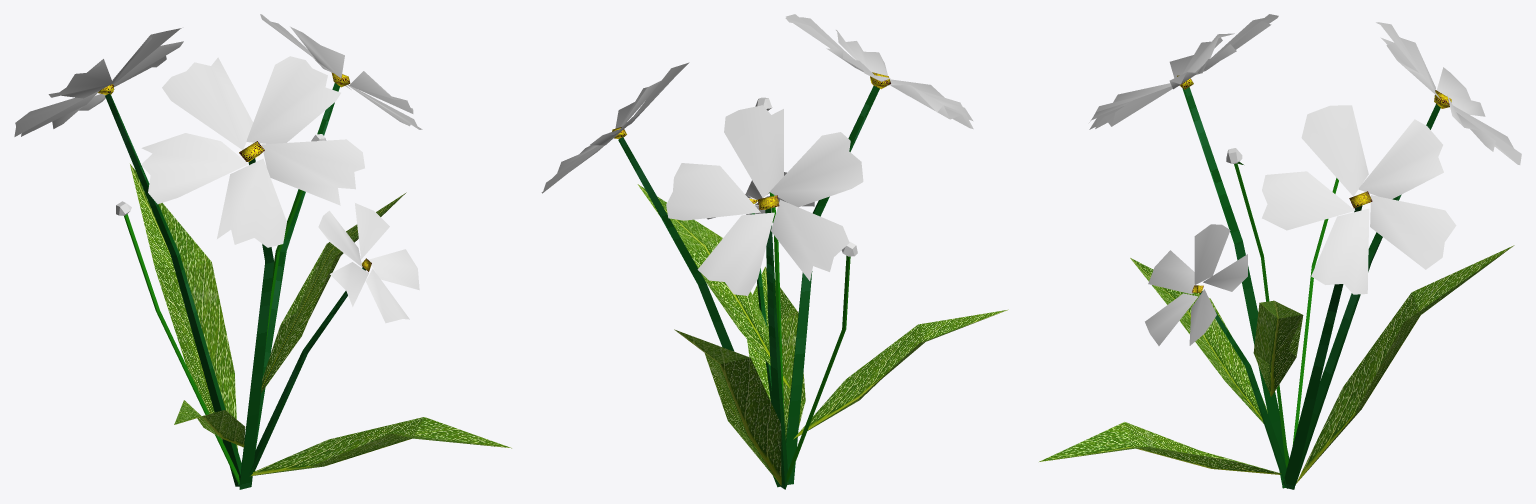
Rendered from flower_white.glb.
3 renders of one model, left to right at view 1: azimuth 30°, elevation 25°; view 2: azimuth 150°, elevation 25°; view 3: azimuth 270°, elevation 25°, orthographic.
Visible parts, largest first — view 1: Circle.008; view 2: Circle.008; view 3: Circle.008.
Part boxes in pixels (box(x1,y1,x2,y2)): Circle.008: box(14, 14, 511, 489); Circle.008: box(541, 14, 1008, 489); Circle.008: box(1039, 14, 1521, 489).
Size of the model in its own units: 1.44 by 1.77 by 1.73.
Materials: 6 (3 with a texture image).
